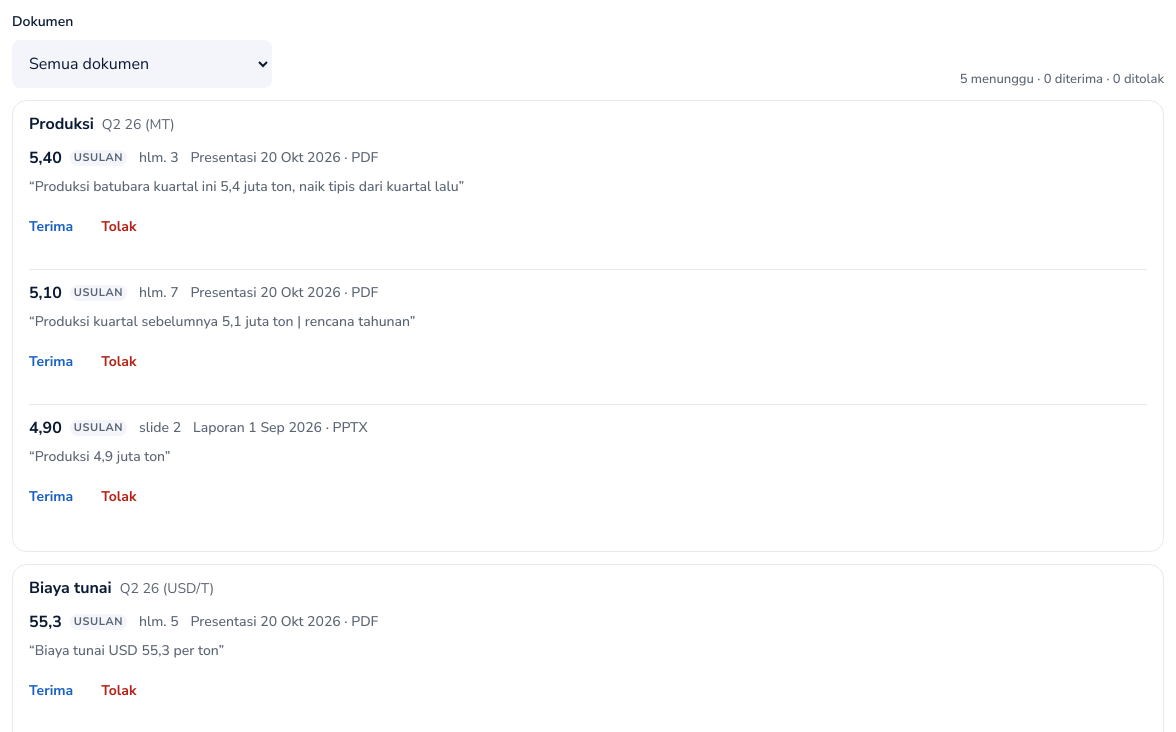
Test case: ProposalReview: states › filters by document and follows a freshly uploaded one
The image size is (1176, 732).
Expected: the heading "Produksi Q2 26 (MT)" is shown, 29,113 -> 175,135
Expected: the text "Laporan 1 Sep 2026 · PPTX" is shown, 193,418 -> 368,438
Select "Laporan 1 Sep 2026 · PPTX" in the dropdown labelled "Dokumen": (142, 64) 12,40 -> 272,88
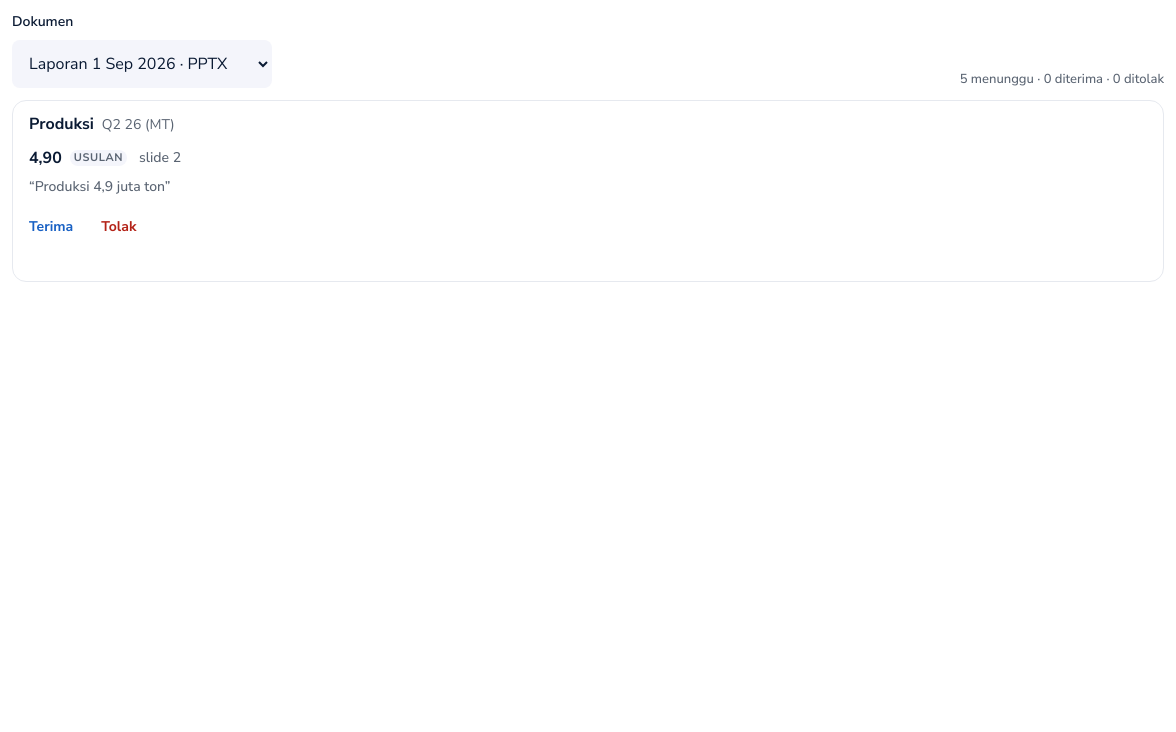
Result: the number of list items is 1 at 17,147 -> 181,249
